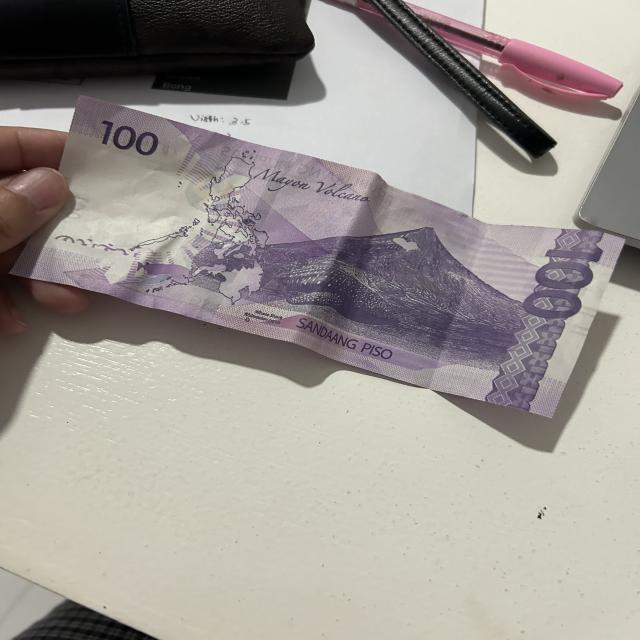100_whale: (268, 267, 407, 326)
100_whale_watermark: (133, 261, 193, 285)
value_watermark: (62, 194, 91, 220)
